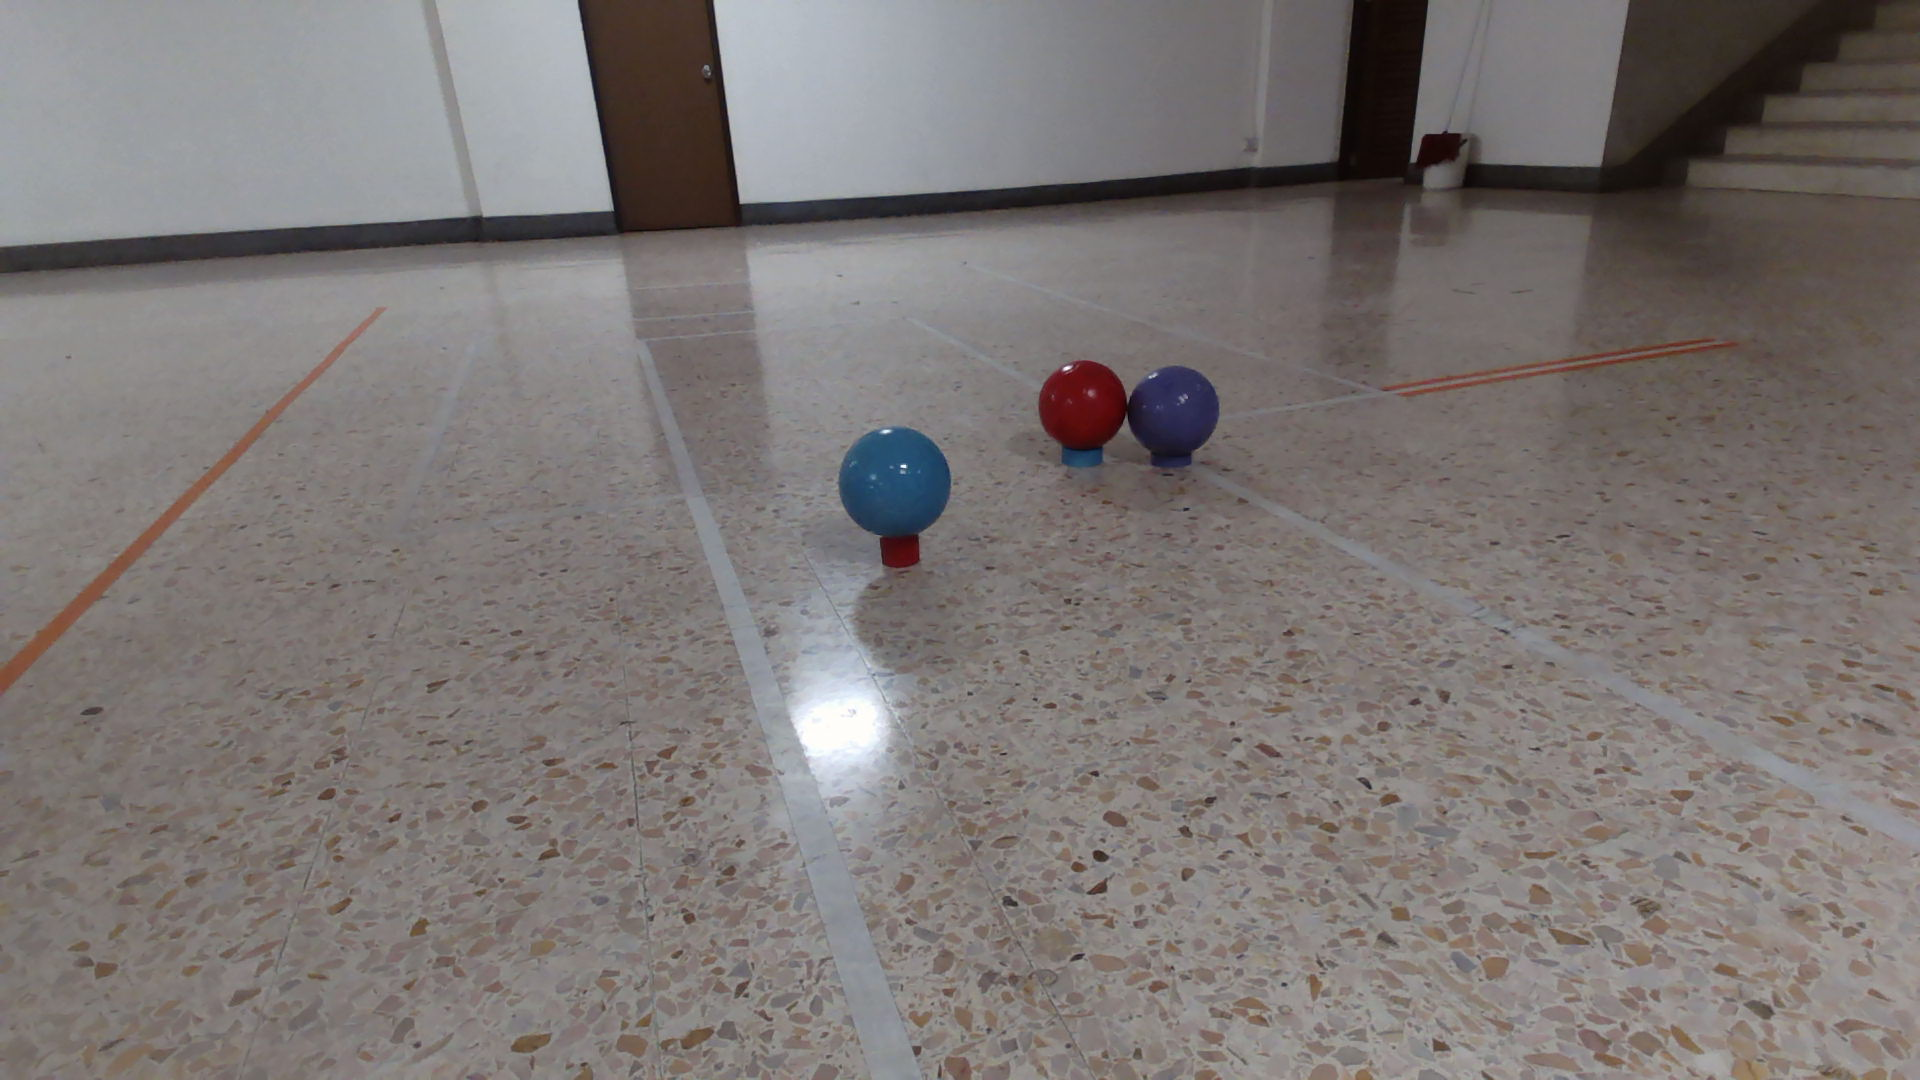Blue ball: (837, 425, 953, 539)
Purple ball: (1127, 363, 1222, 458)
Red ball: (1038, 359, 1127, 452)
